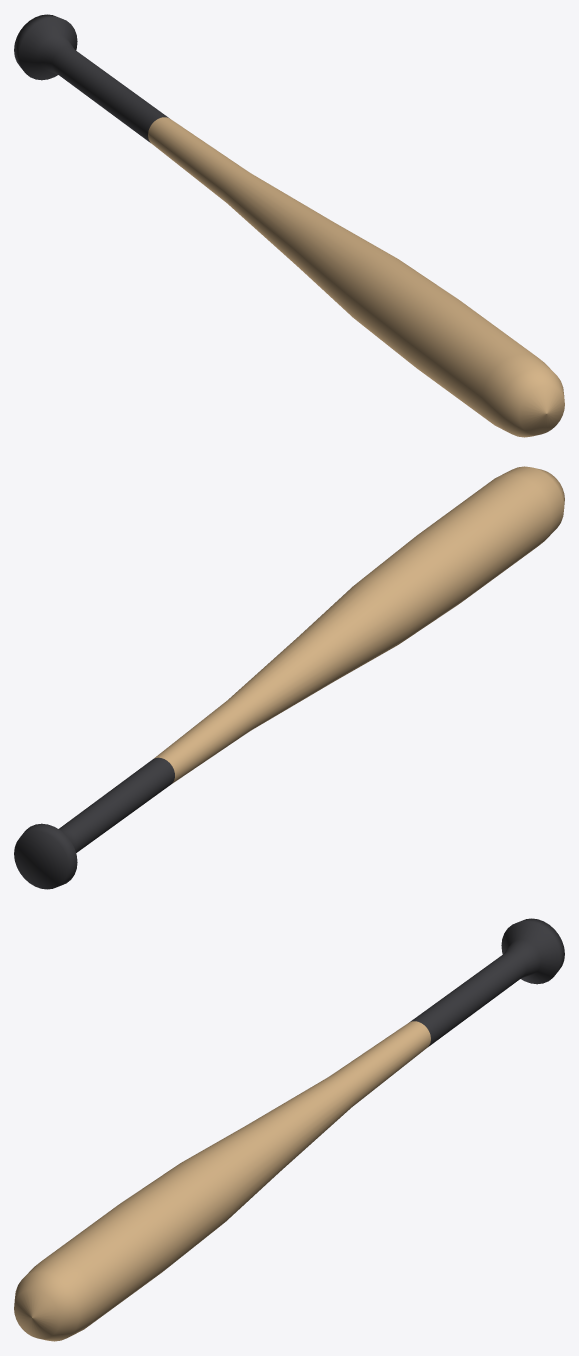
Rendered from bat_1.glb.
The picture shows the model from 3 angles, top to bottom: view 1: azimuth 30°, elevation 25°; view 2: azimuth 150°, elevation 25°; view 3: azimuth 330°, elevation 25°; orthographic projection.
Parts seen in each view (by area): view 1: bat_1; view 2: bat_1; view 3: bat_1.
Boxes of the visible parts, x1,y1,x2,y2 form: bat_1: (14,14,564,437); bat_1: (14,466,564,889); bat_1: (14,918,564,1341).
Bounding box in the file's own units: 0.067 × 0.067 × 0.84.
